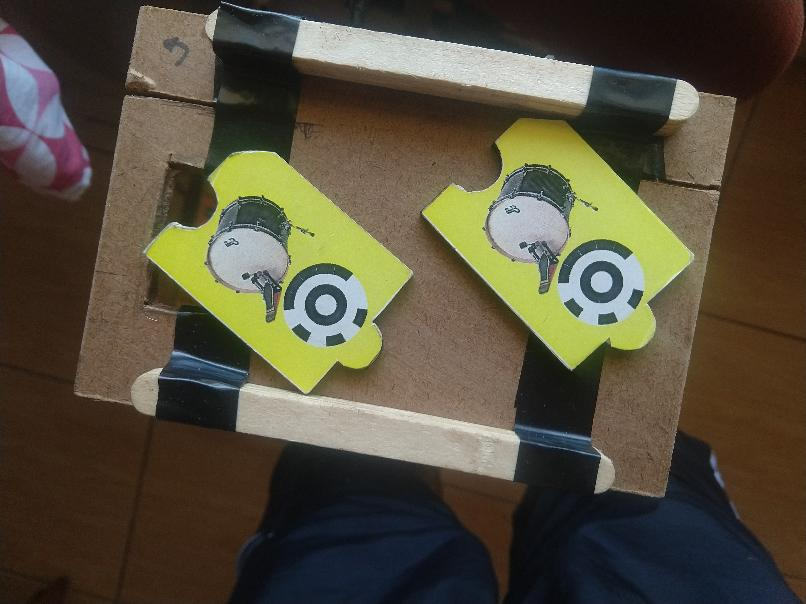bumbo: (424, 105, 694, 380), (137, 140, 416, 397)
